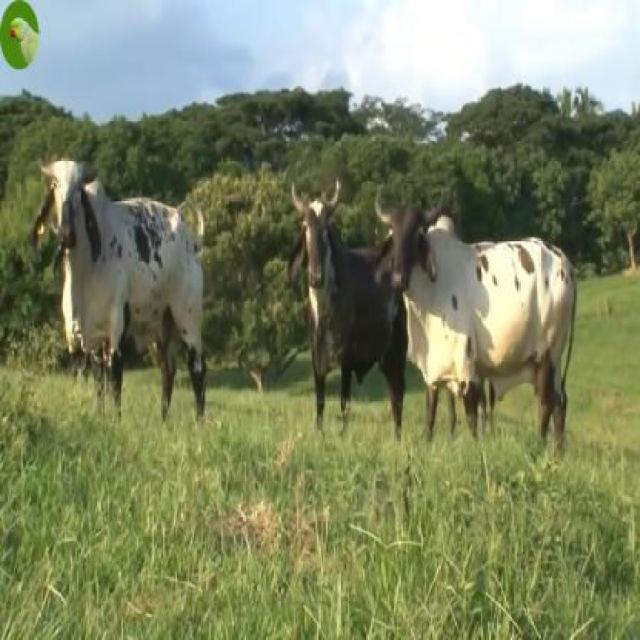Cow: (377, 185, 580, 480), (39, 143, 206, 435), (289, 180, 403, 442)
